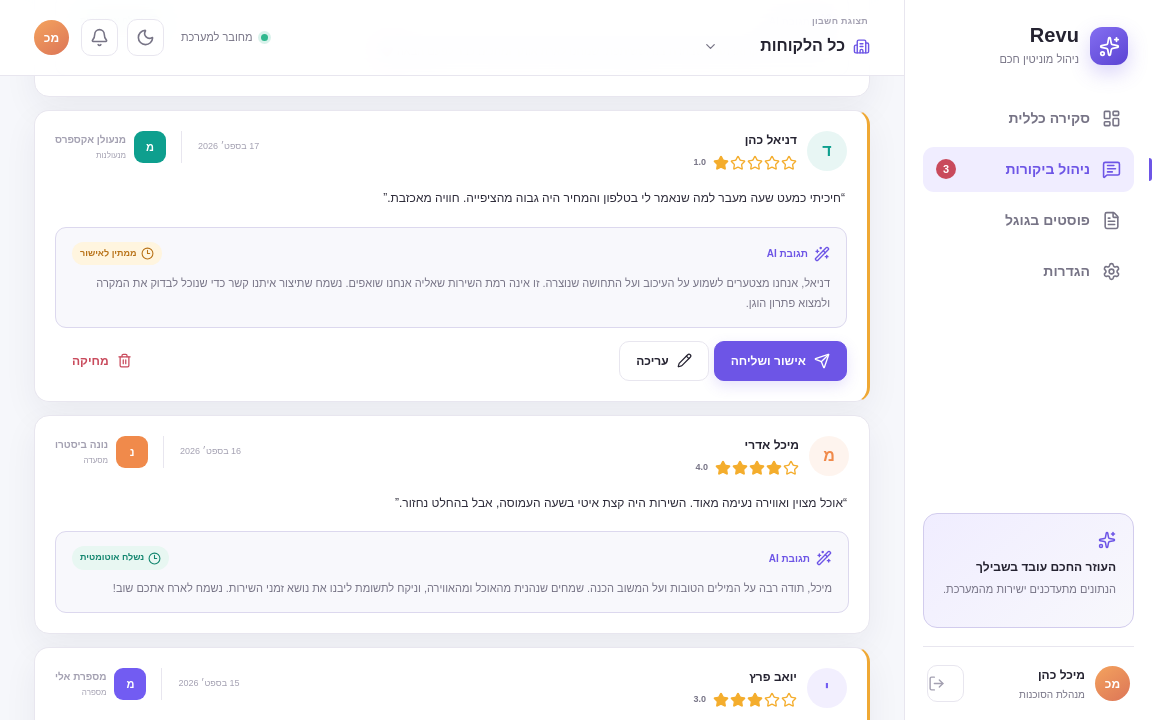
dashboard routing and interactions › approves and edits reviews through the async service
This screenshot has width=1152, height=720.
(page scrolled)
Click the button "אישור ושליחה": (780,361) [714,341,847,381]
(page scrolled)
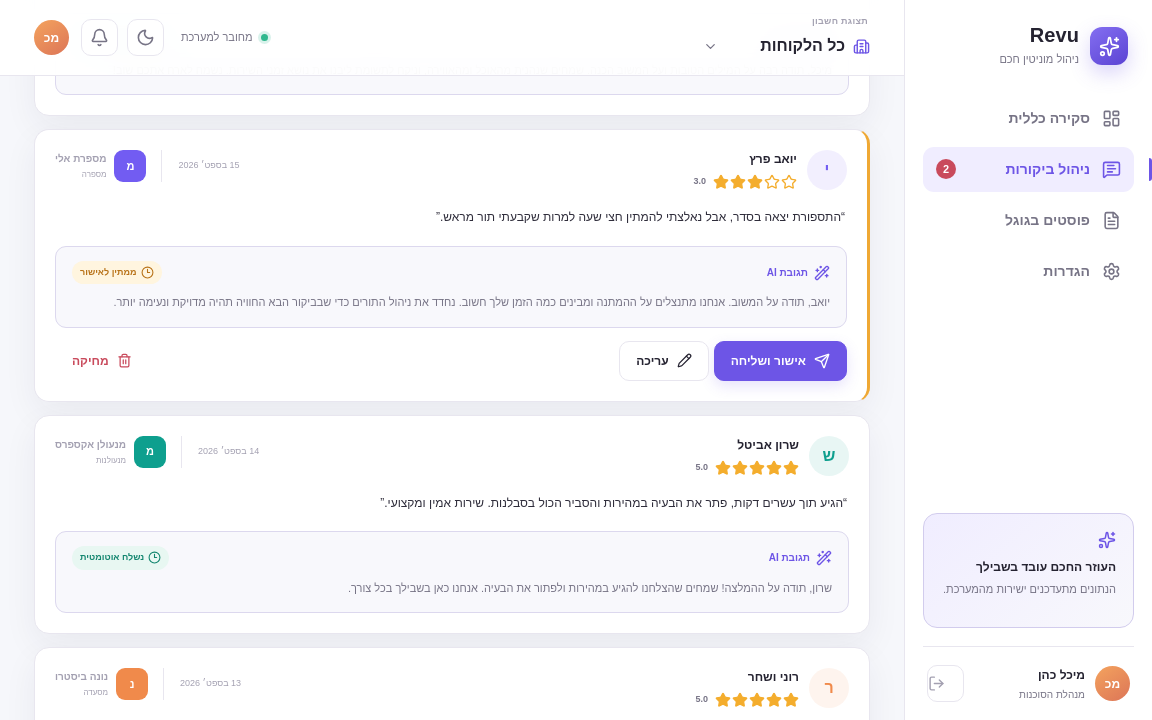
Click the button "עריכה": (664,360) [619,340,709,380]
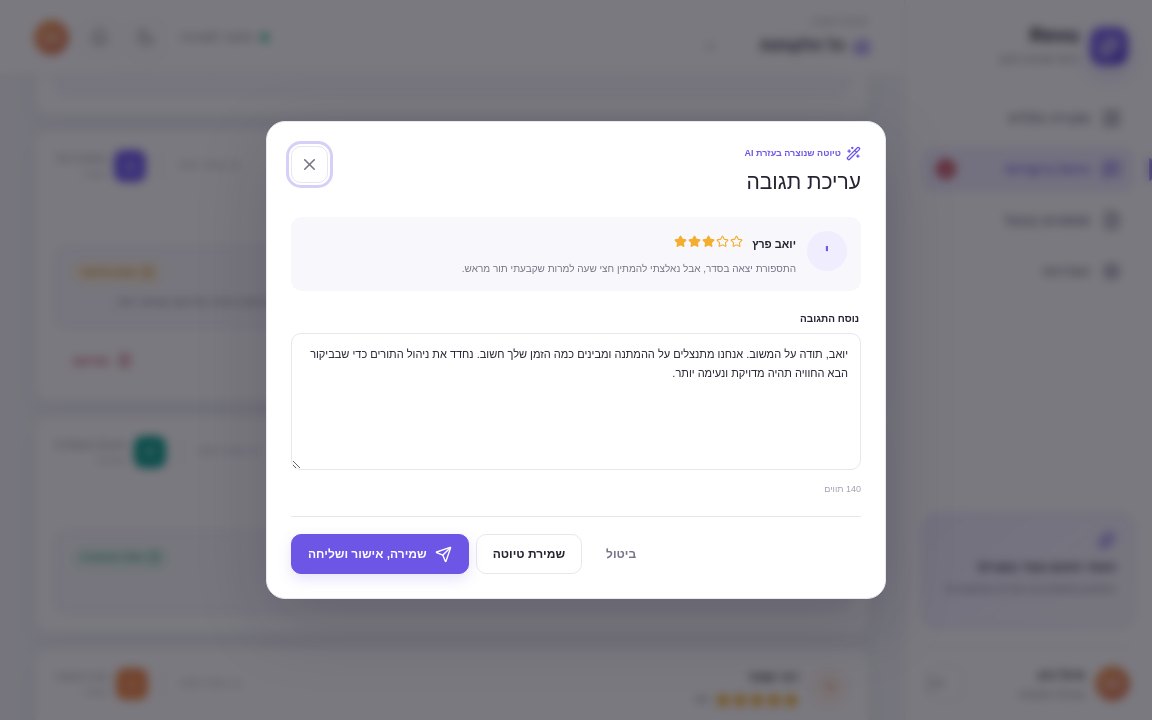
Replace the text in the text box labelled "נוסח התגובה" with "יואב, תודה על המשוב. טיפלנו בנושא התורים ונשמח לארח אותך שוב.": (576,401) [291,333,861,470]
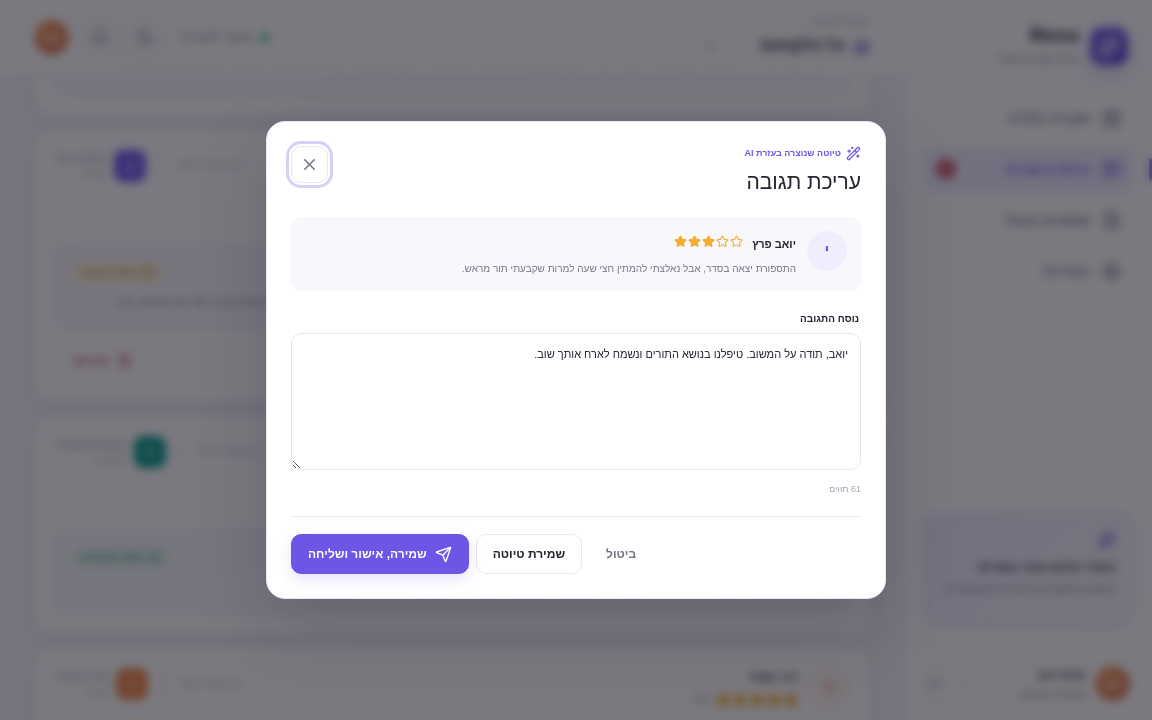
Click the button "שמירה, אישור ושליחה": (380,554) [291,534,469,574]
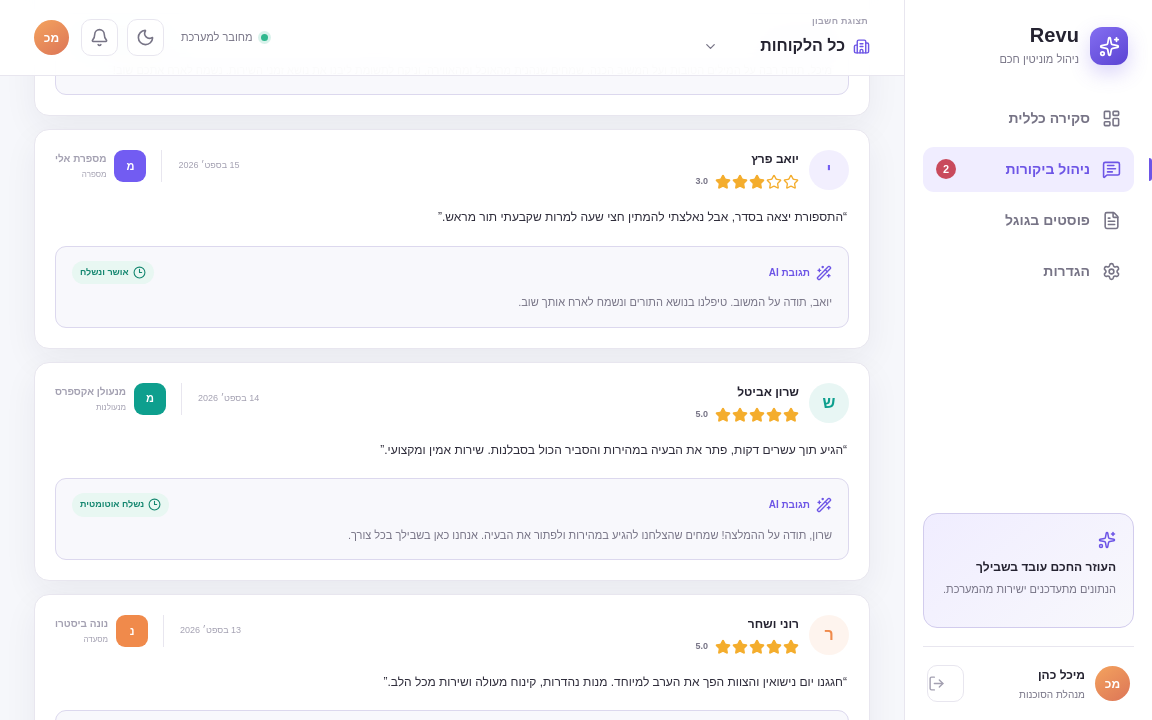
Expected: the dialog is gone
Expected: the text "טיפלנו בנושא התורים" is shown, [518,296,832,308]
